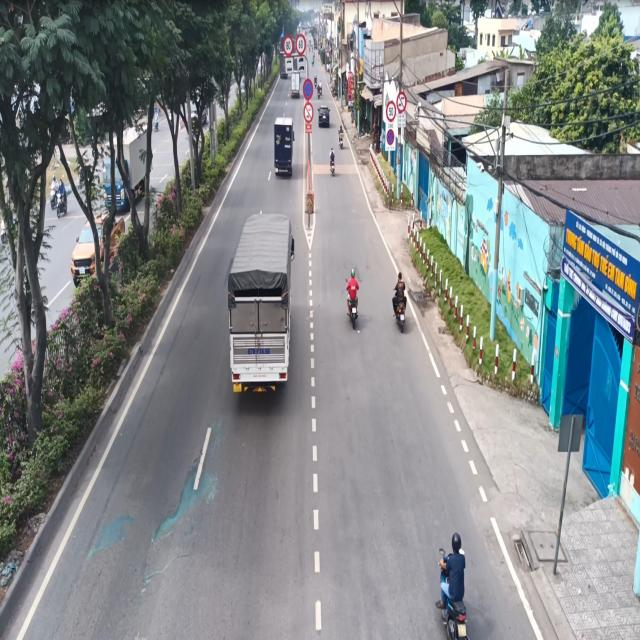motor: (435, 526, 472, 640), (390, 265, 411, 330), (344, 260, 364, 326), (326, 141, 338, 182)
truck: (228, 207, 298, 410), (269, 110, 295, 181)
